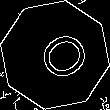O_SW: (22, 23, 88, 87)
